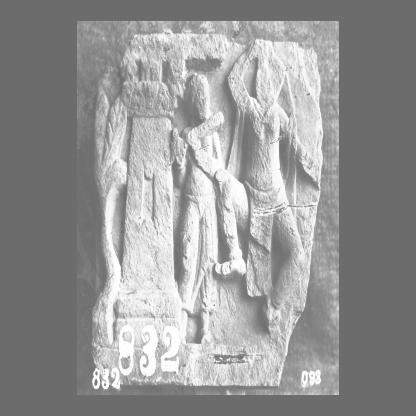buddha-standing: (214, 41, 321, 338)
